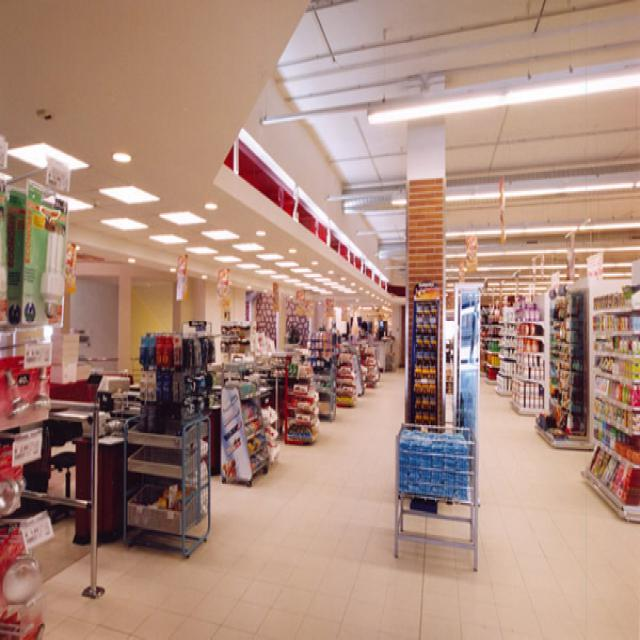bulb: (39, 232, 62, 315)
ceiling beam: (270, 0, 638, 288)
column occluded: (402, 75, 445, 514)
counter bottom: (46, 396, 144, 541)
entrance: (442, 288, 478, 369)
floor -X: (0, 350, 638, 637)
lamp crop: (366, 60, 637, 127), (445, 170, 636, 204), (6, 140, 87, 174), (98, 183, 158, 204), (159, 207, 205, 226), (100, 217, 145, 229), (148, 231, 186, 244), (202, 228, 238, 240), (185, 244, 217, 253), (233, 240, 261, 250), (213, 253, 240, 263), (112, 150, 130, 162), (257, 252, 283, 260), (275, 260, 298, 267)
stand clothes: (1, 156, 70, 635), (580, 274, 638, 519), (396, 422, 477, 565), (534, 279, 592, 447), (220, 376, 268, 486), (508, 293, 542, 414), (283, 349, 319, 443), (309, 330, 337, 417), (336, 345, 365, 404), (478, 306, 498, 380), (495, 304, 511, 393)
swivel chair: (43, 419, 75, 519)
trolley: (124, 408, 209, 552)
wall clock: (1, 221, 403, 382), (212, 72, 404, 302), (480, 280, 543, 306)
